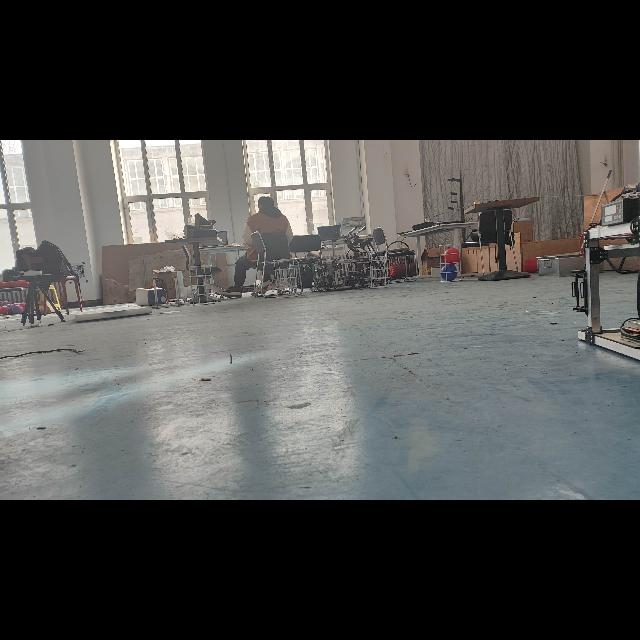B: (441, 265, 457, 281)
R: (444, 247, 462, 263)
S: (270, 256, 304, 300), (186, 263, 218, 307), (436, 242, 464, 284), (366, 248, 392, 292)
